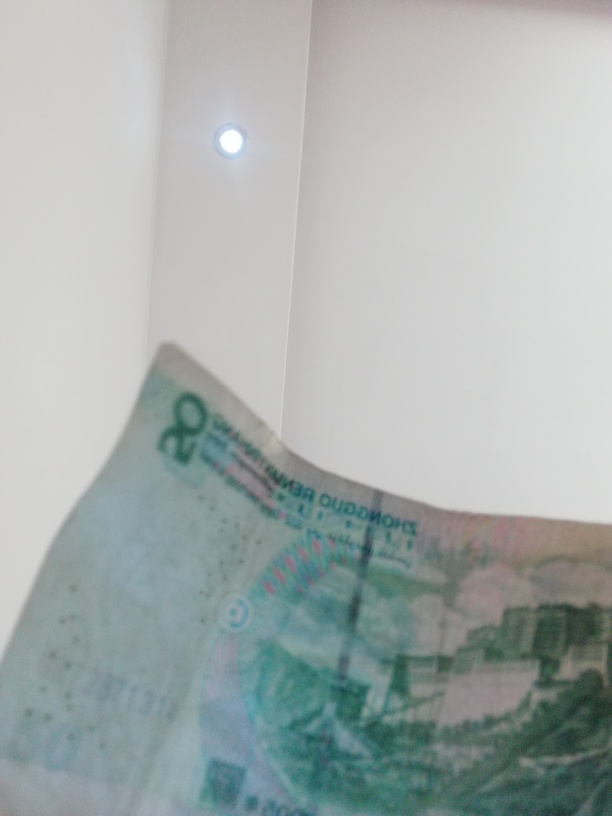rmb: (6, 350, 609, 816)
